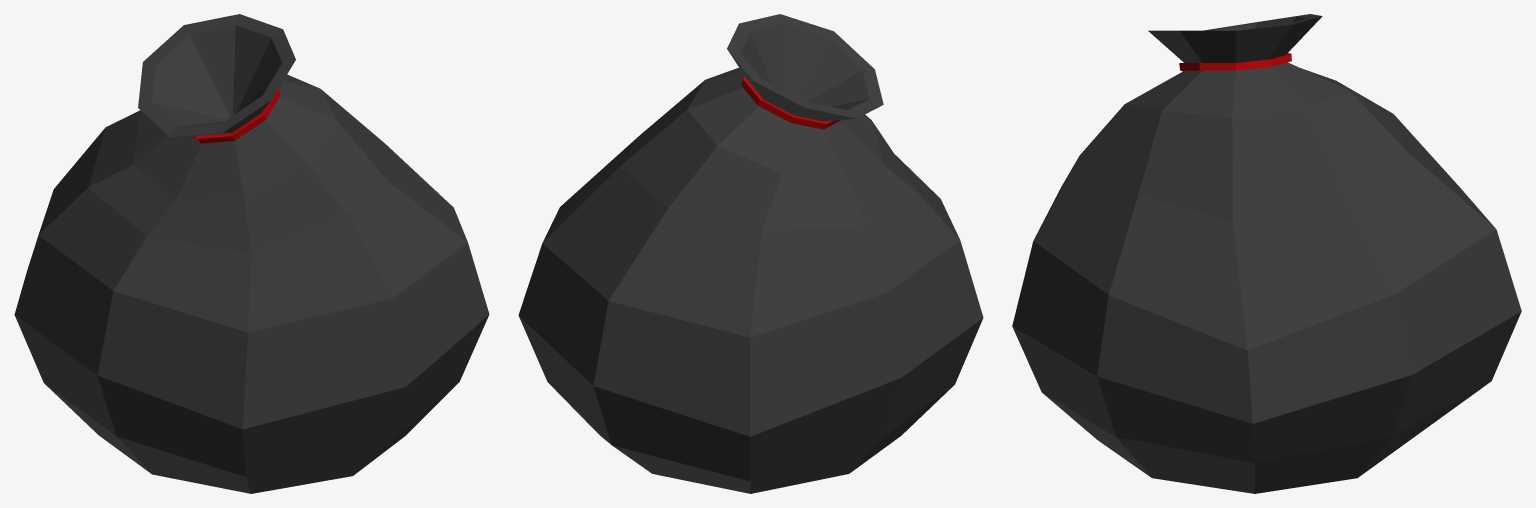
Rendered from model_trash_bag.fbx.
3 views of the same model, side by side, from view 1: azimuth 30°, elevation 25°; view 2: azimuth 150°, elevation 25°; view 3: azimuth 270°, elevation 25° (orthographic). The views are drawn at different scales.
Visible parts, largest first — view 1: model_trash_bag; view 2: model_trash_bag; view 3: model_trash_bag.
Part boxes in pixels (x1,y1,x2,y2): model_trash_bag: (14, 14, 489, 493); model_trash_bag: (518, 14, 983, 493); model_trash_bag: (1012, 14, 1521, 493).
Bounding box in the file's own units: 69.57 × 66.27 × 72.34.
1 material, 1 textured.
